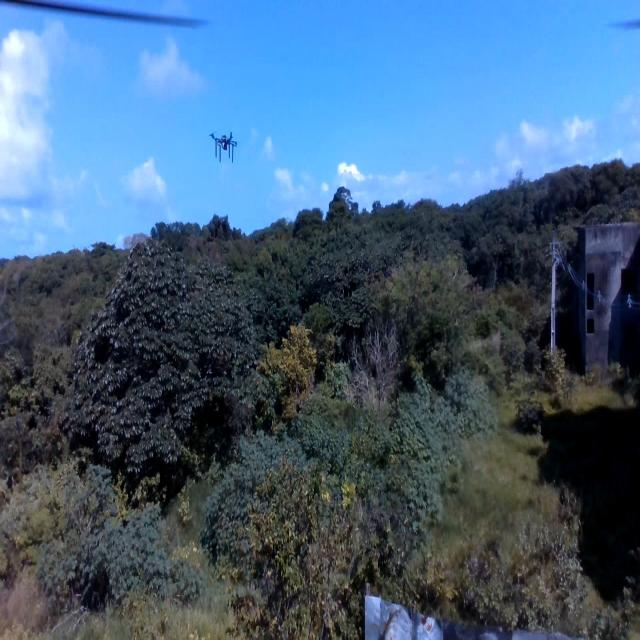-uav-: (206, 120, 242, 170)
